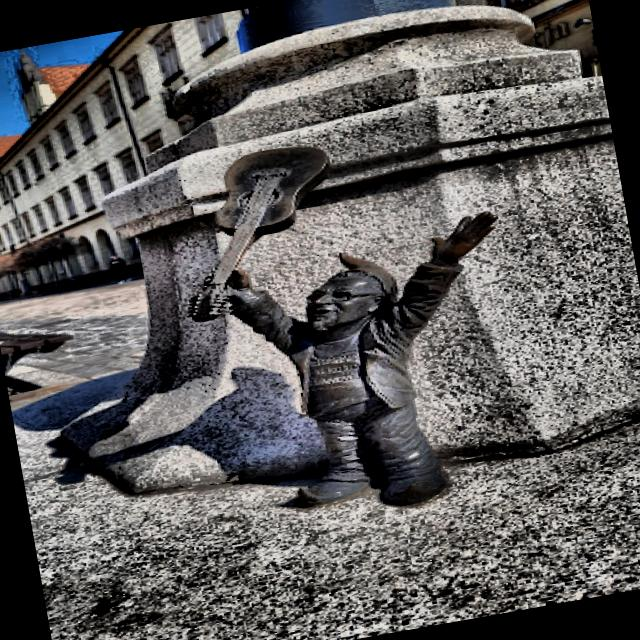Leszko_z_Wroclawia: (189, 146, 495, 509)
